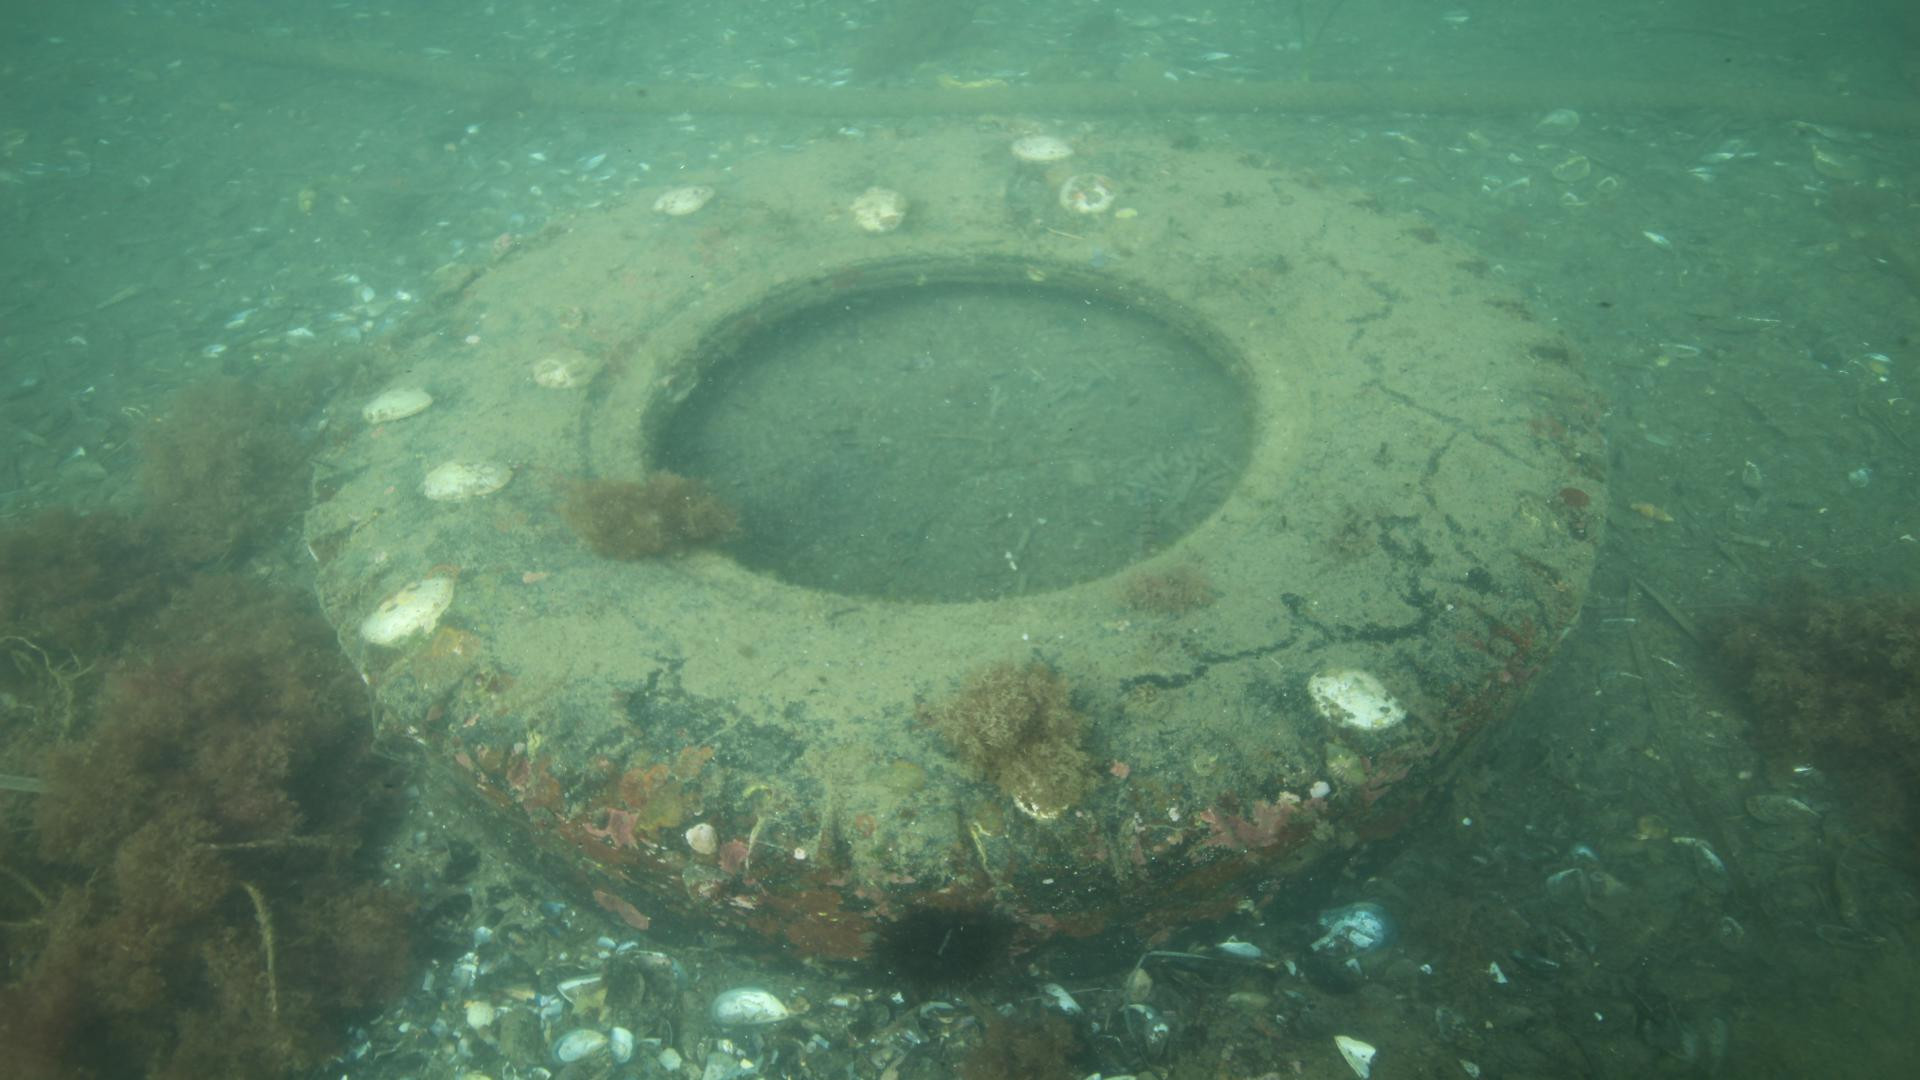tire: (306, 119, 1609, 980)
